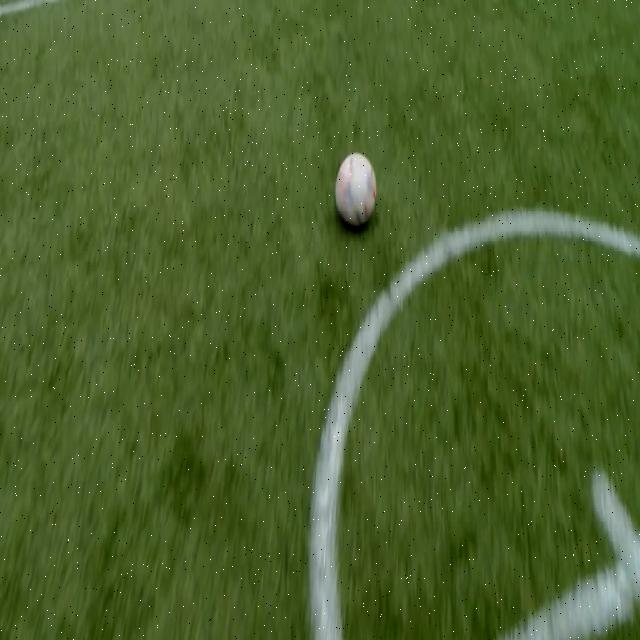ball: (334, 152, 376, 227)
